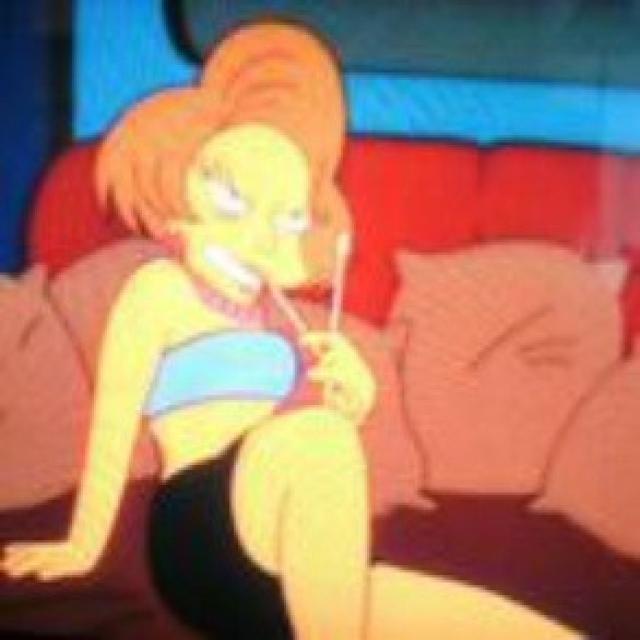Edna Krappel: (93, 21, 357, 309)
